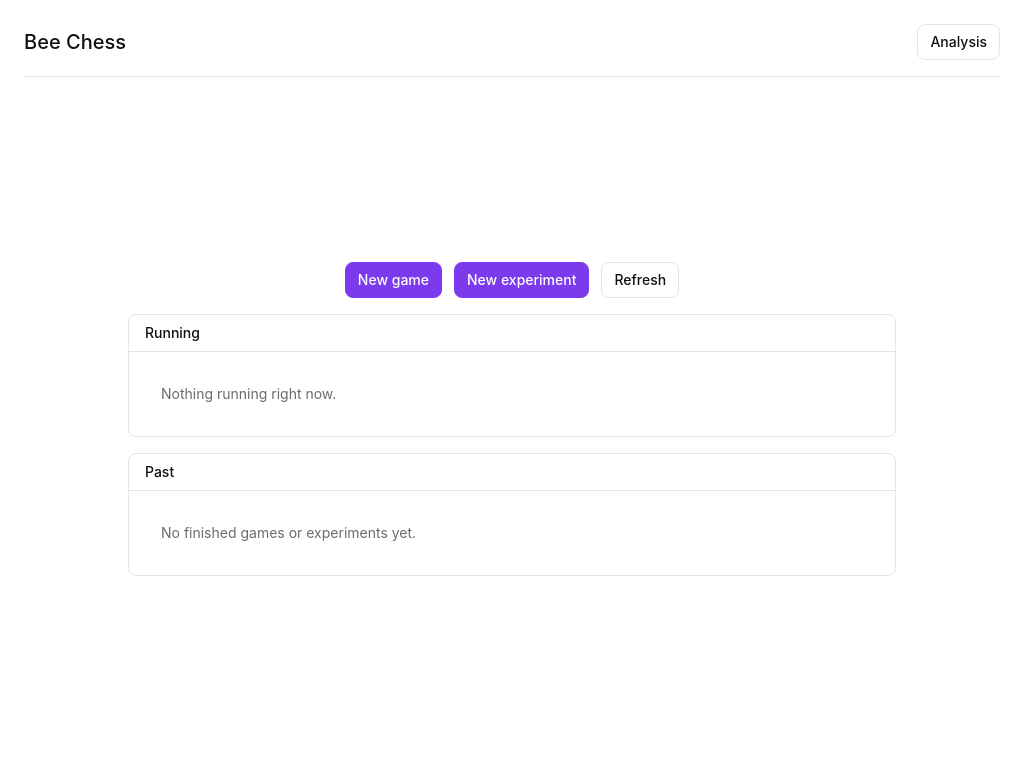
Test: App navigation history › going dashboard -> new game pushes a history entry with the right URL
Expected: the text "Nothing running right now." is shown, [161,384,336,402]
Click the button "New game" at (393, 280), box [345,262,442,298]
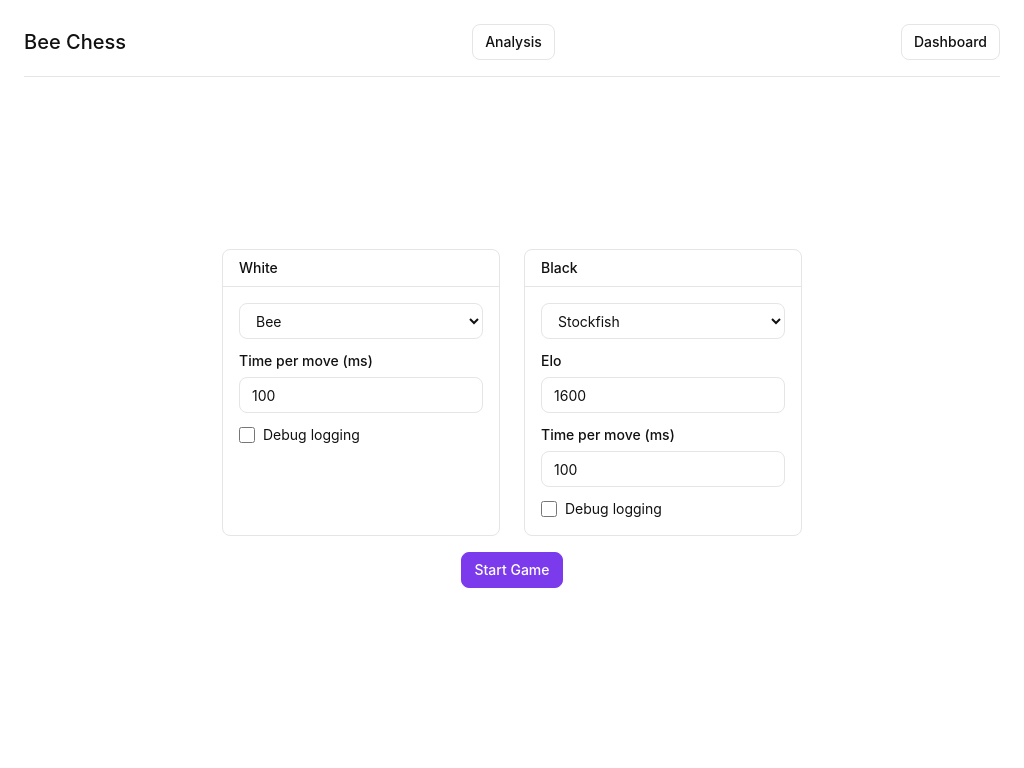
Result: the button "Start Game" is shown at [462,552,563,588]
